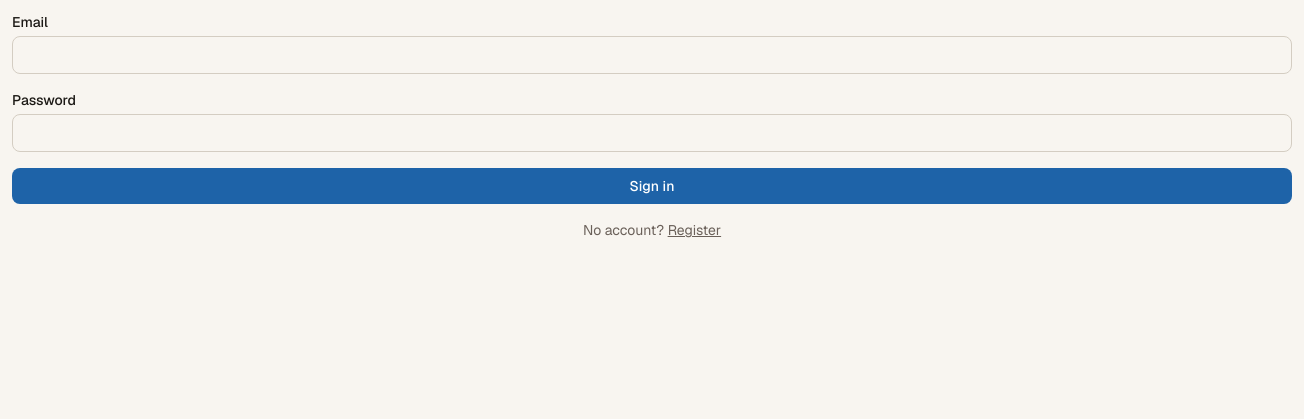
LoginForm — verification flow › re-enables resend button after user edits email
Type "alice@example.com" into the field labelled "Email".
click(652, 55); type("alice@example.com")  # box x1=12 y1=36 x2=1292 y2=74
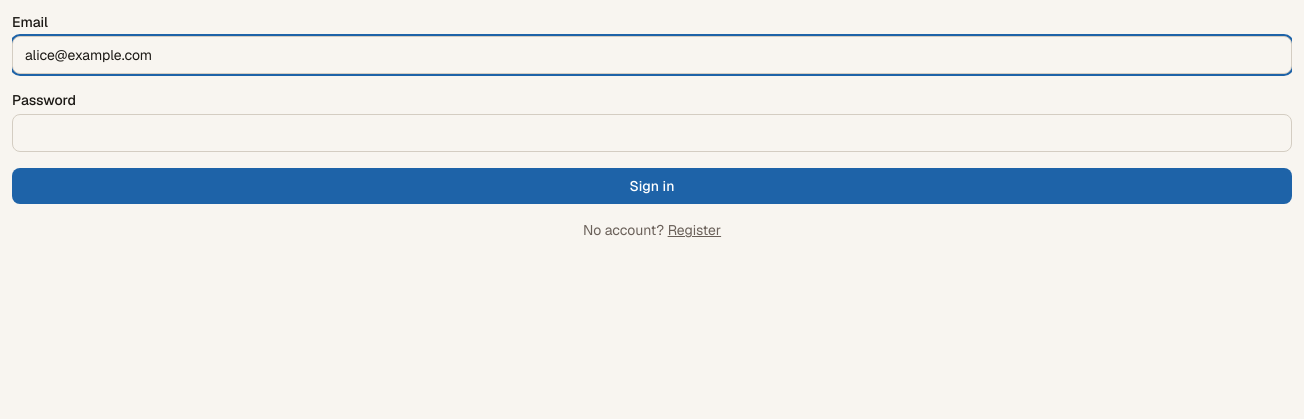
Type "hunter2!!" into the password field labelled "Password".
click(652, 133); type("hunter2!!")  # box x1=12 y1=114 x2=1292 y2=152
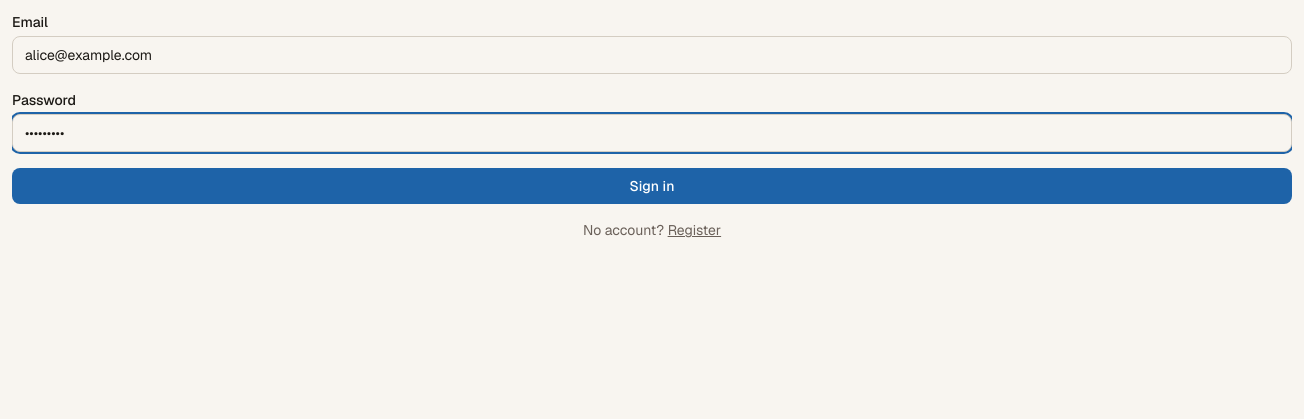
Click the button "Sign in".
click(652, 186)  # box x1=12 y1=168 x2=1292 y2=204
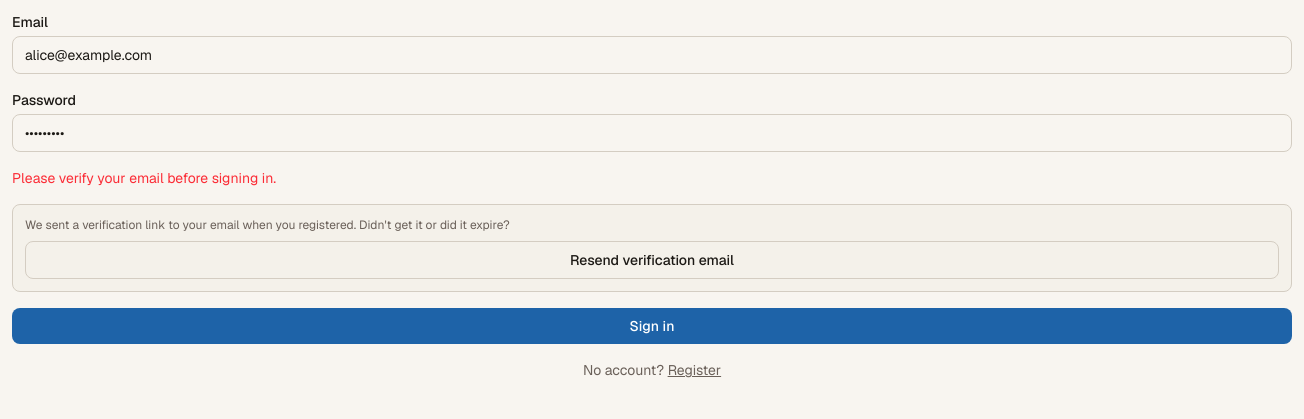
Click the button "Resend verification email".
click(652, 260)  # box x1=25 y1=241 x2=1279 y2=279
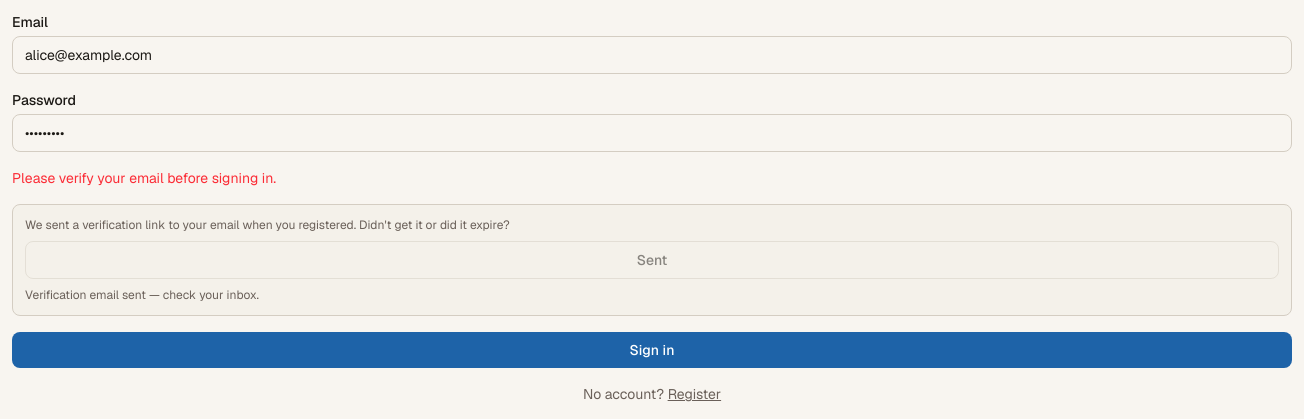
Check: the text "Verification email sent — check your inbox." is shown, box x1=25 y1=287 x2=259 y2=303
Check: the button "Sent" is disabled, box x1=25 y1=241 x2=1279 y2=279
Type "x" into the field labelled "Email".
click(652, 55); type("x")  # box x1=12 y1=36 x2=1292 y2=74
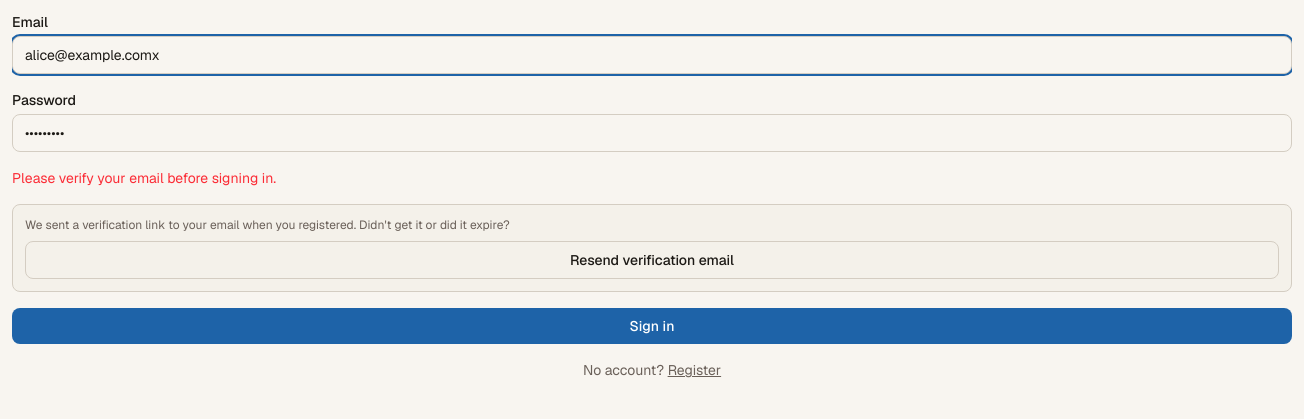
Check: the button "Resend verification email" is enabled, box x1=25 y1=241 x2=1279 y2=279
Check: the text "Verification email sent" is gone
